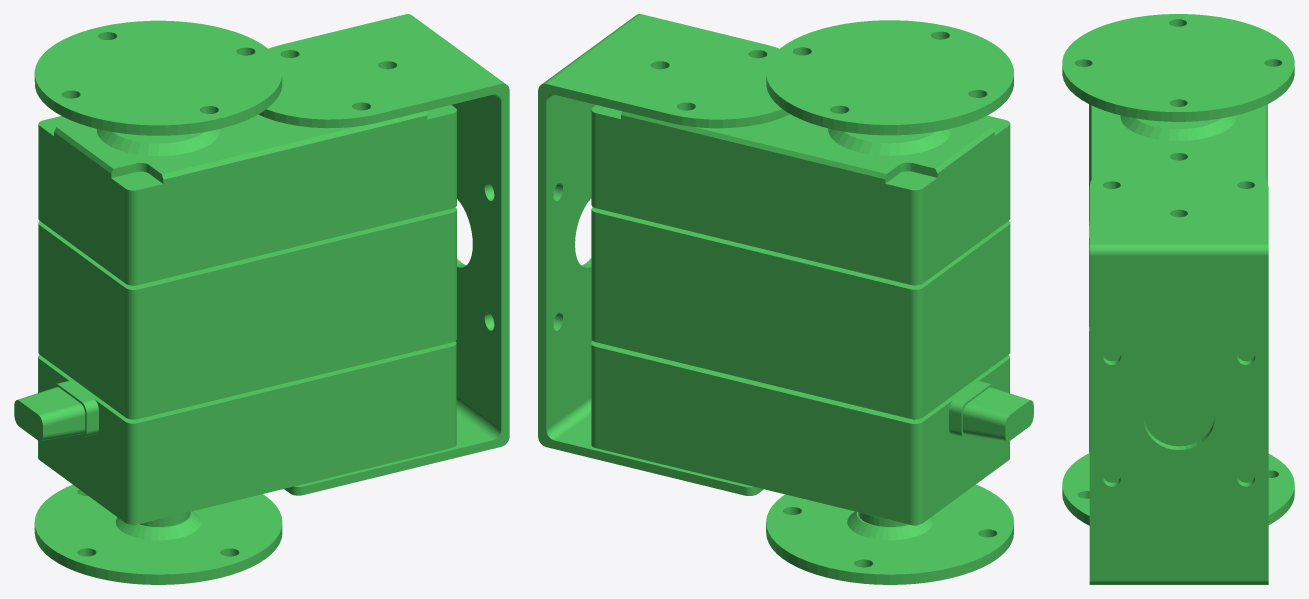
The model's file is motor_v1.dae.
3 views of the same model, side by side, from view 1: azimuth 30°, elevation 25°; view 2: azimuth 150°, elevation 25°; view 3: azimuth 270°, elevation 25° (orthographic). The views are drawn at different scales.
Parts seen in each view (by area): view 1: Full_motor_with_attachments; view 2: Full_motor_with_attachments; view 3: Full_motor_with_attachments.
Boxes of the visible parts, x1,y1,x2,y2 form: Full_motor_with_attachments: (14,14,509,584); Full_motor_with_attachments: (538,14,1033,584); Full_motor_with_attachments: (1062,14,1294,584).
Size of the model in its own units: 0.0525 by 0.026 by 0.0532.
